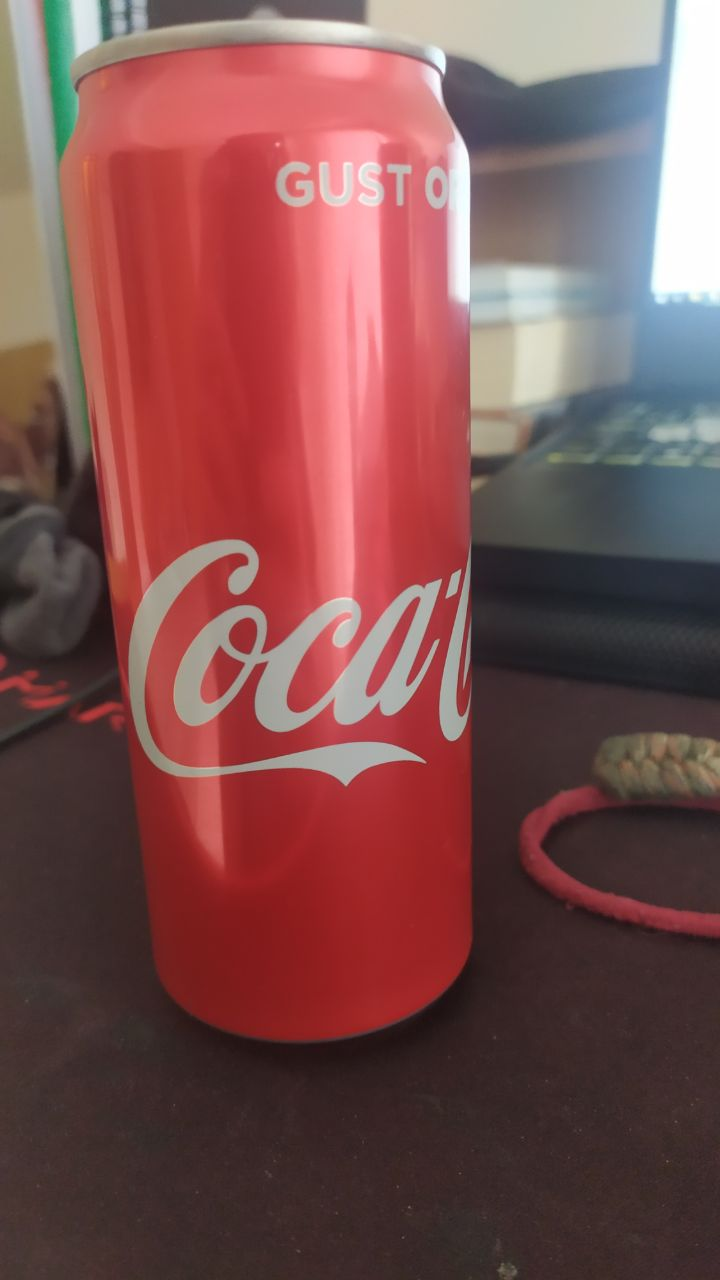Can: (49, 13, 497, 1049)
